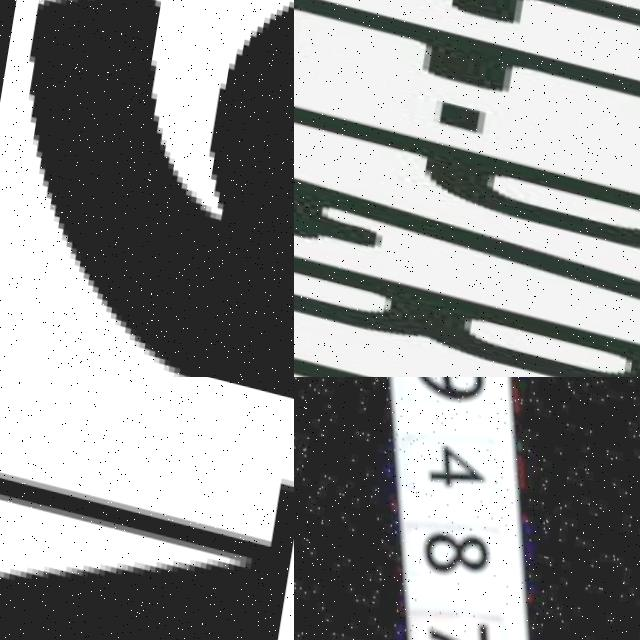4: (294, 140, 640, 331), (408, 413, 508, 501)
7: (409, 588, 511, 640)
8: (404, 496, 514, 591)
9: (0, 0, 294, 377), (396, 377, 508, 418)
B: (294, 216, 640, 377)
C: (294, 311, 640, 377)
E: (294, 0, 640, 150)
F: (294, 0, 640, 75)
M: (0, 377, 294, 640)
P: (294, 76, 640, 260)
